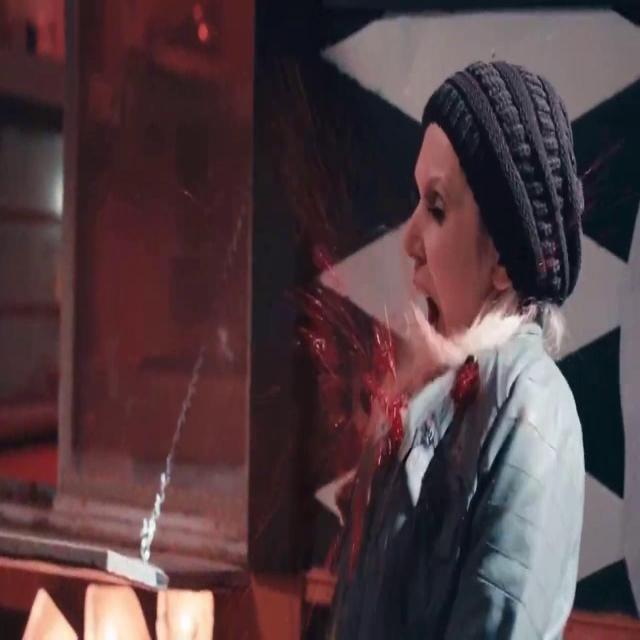flood: (266, 194, 408, 503)
